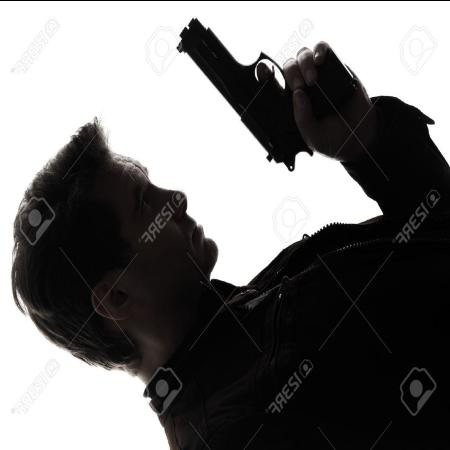Pistol: (174, 8, 356, 176)
